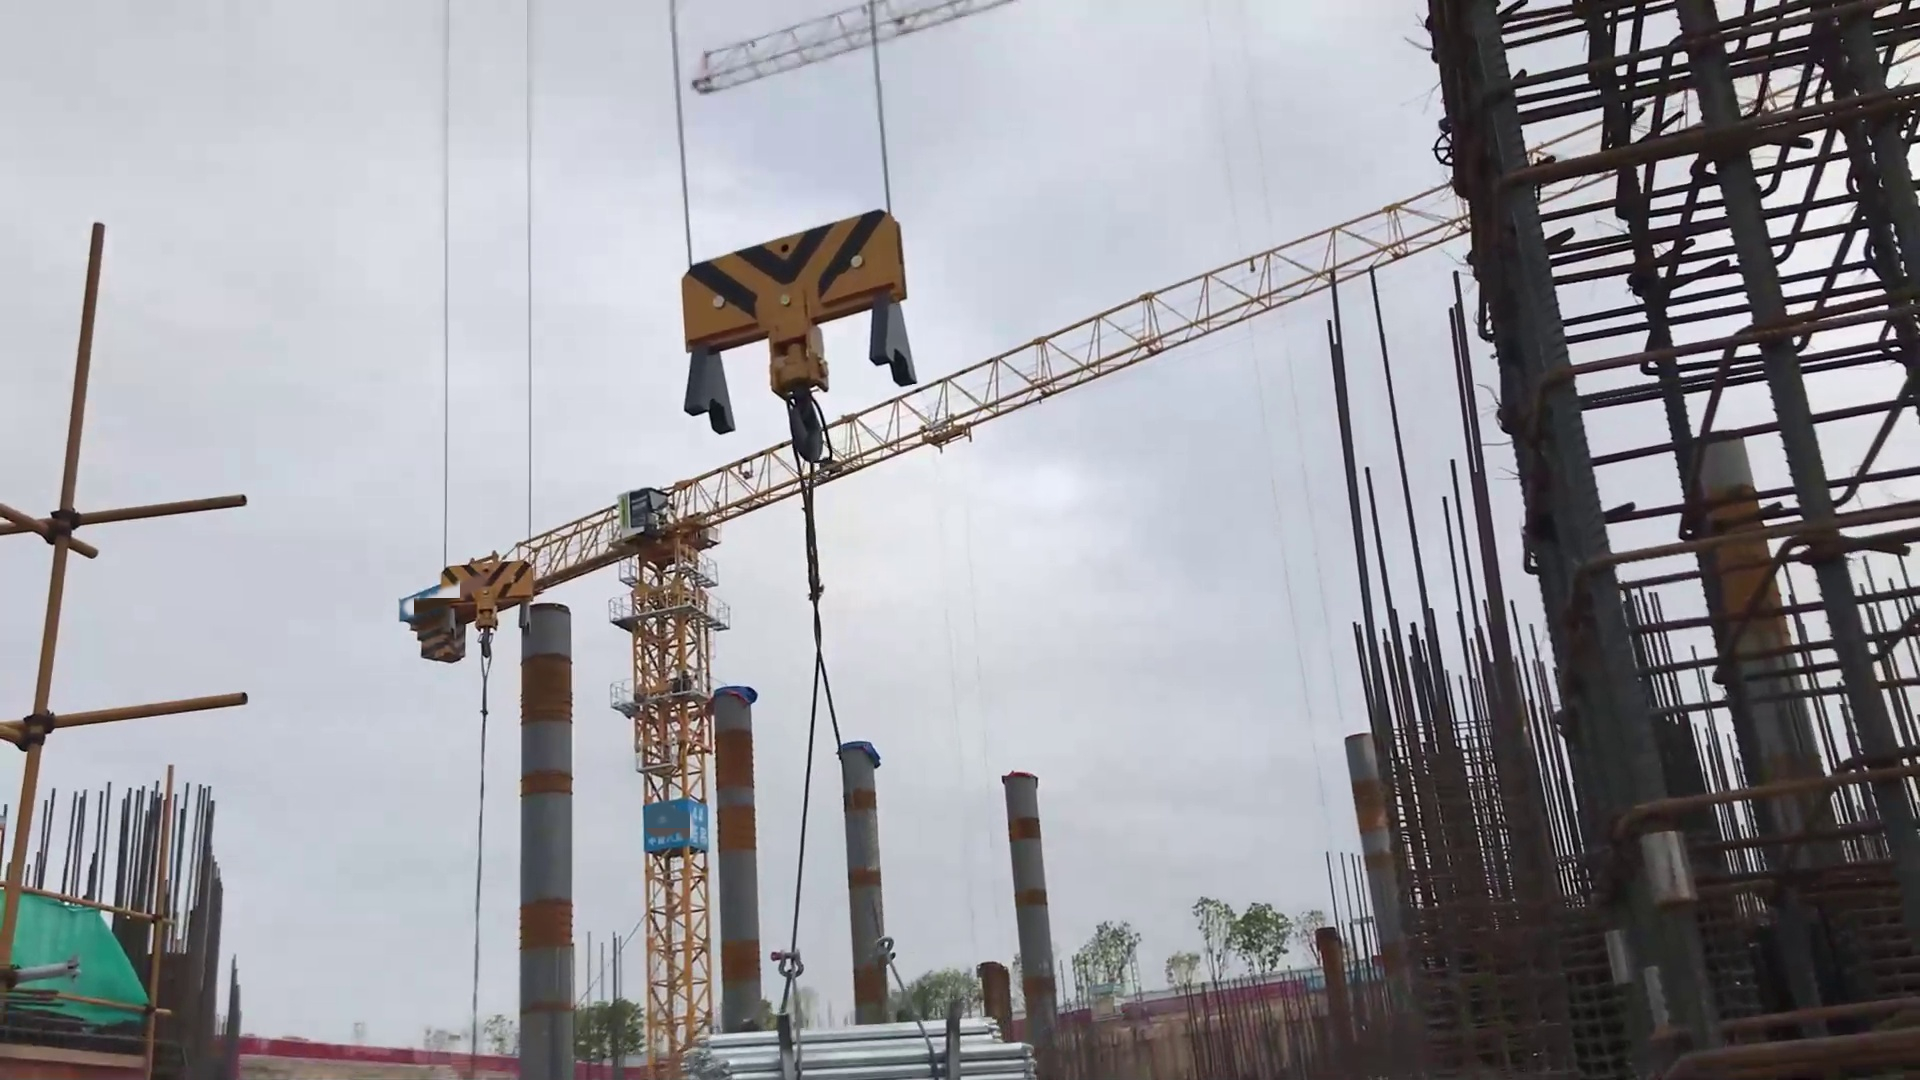hook: (673, 196, 965, 460), (433, 562, 535, 646)
